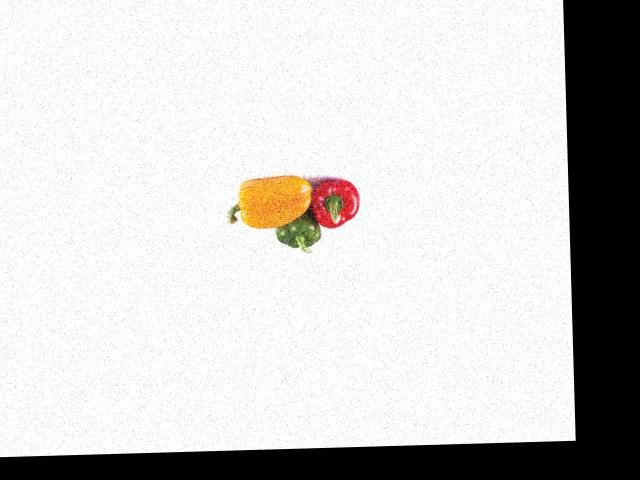bell_pepper: (270, 206, 326, 254)
